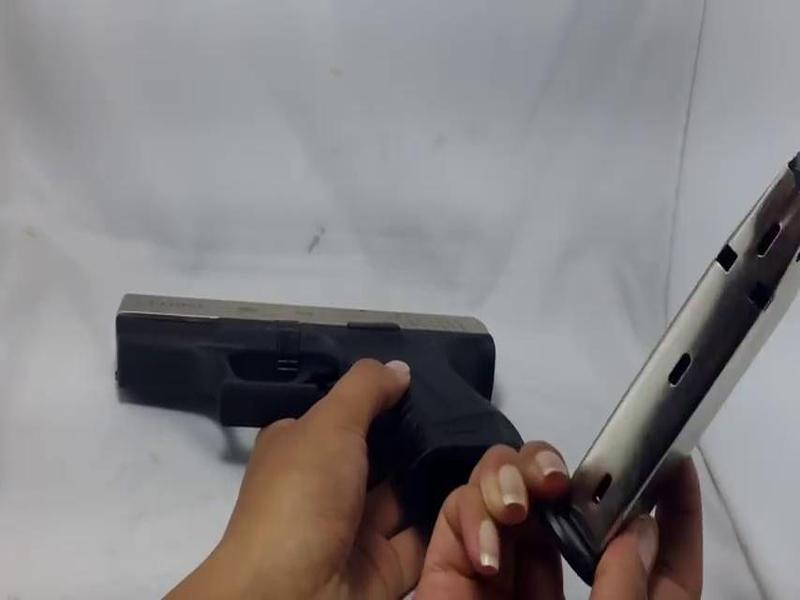Pistola: (100, 284, 533, 544)
